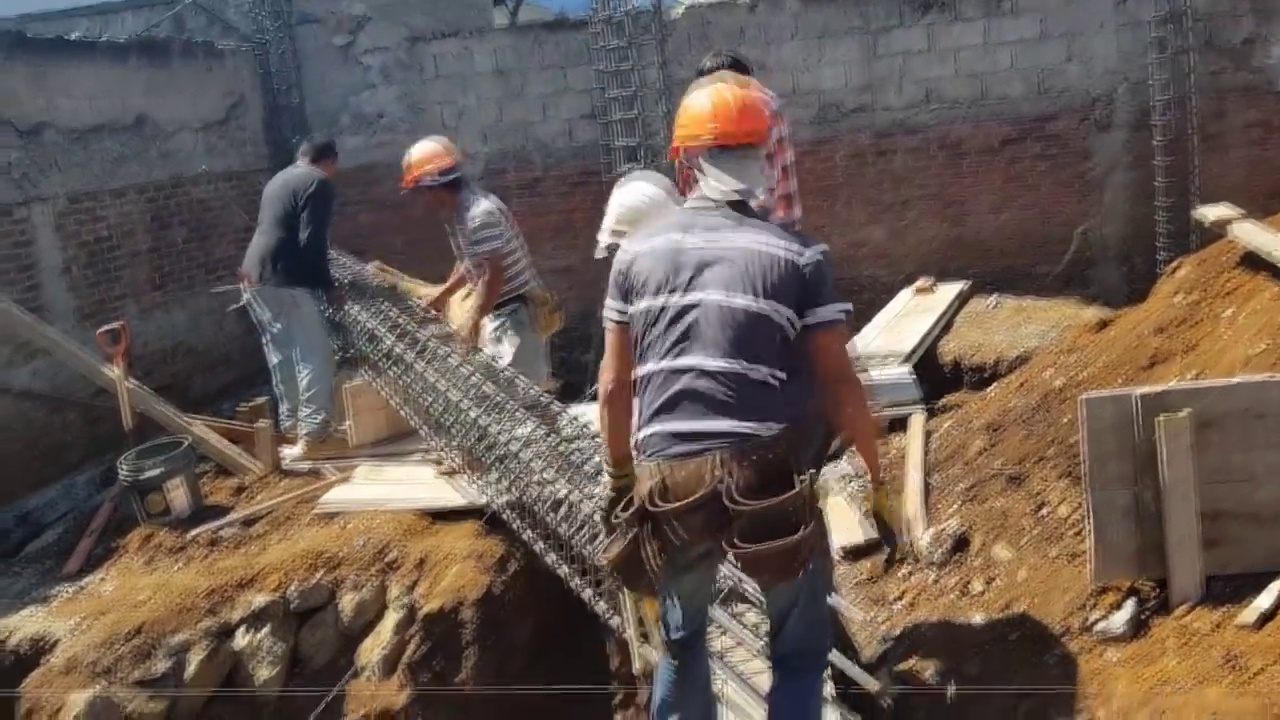helmet: (665, 62, 785, 170), (601, 163, 673, 261), (390, 136, 455, 198)
helmet-off: (293, 132, 336, 180)
helmet-on: (668, 55, 788, 219), (389, 127, 478, 223)
person: (578, 77, 890, 693), (394, 136, 536, 380), (239, 123, 338, 455)
